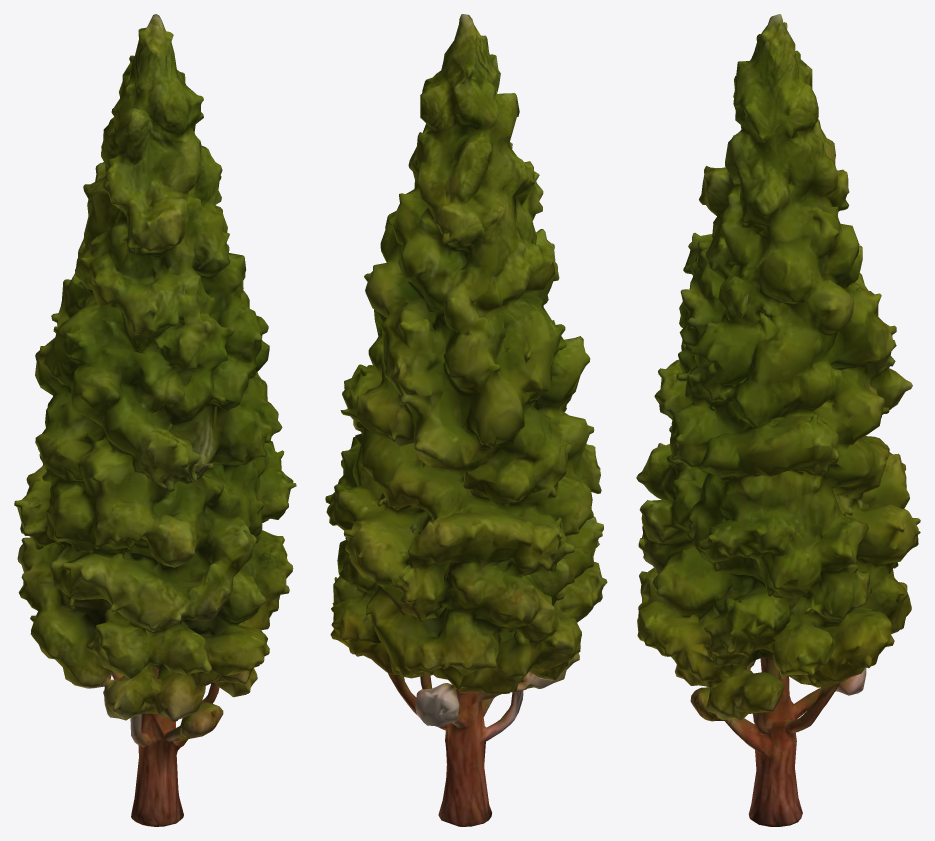
Rendered from tree_cypress.glb.
The picture shows the model from 3 angles, left to right: view 1: azimuth 30°, elevation 25°; view 2: azimuth 150°, elevation 25°; view 3: azimuth 270°, elevation 25°; orthographic projection.
Visible parts, largest first — view 1: tripo_node_75f5b378-b409-452b-b503-7343d95c5568; view 2: tripo_node_75f5b378-b409-452b-b503-7343d95c5568; view 3: tripo_node_75f5b378-b409-452b-b503-7343d95c5568.
Boxes of the visible parts, x1,y1,x2,y2 form: tripo_node_75f5b378-b409-452b-b503-7343d95c5568: [14, 14, 296, 826]; tripo_node_75f5b378-b409-452b-b503-7343d95c5568: [325, 14, 607, 826]; tripo_node_75f5b378-b409-452b-b503-7343d95c5568: [636, 14, 920, 826].
Size of the model in its own units: 0.3017 by 0.9452 by 0.3035.
1 material, 1 textured.
